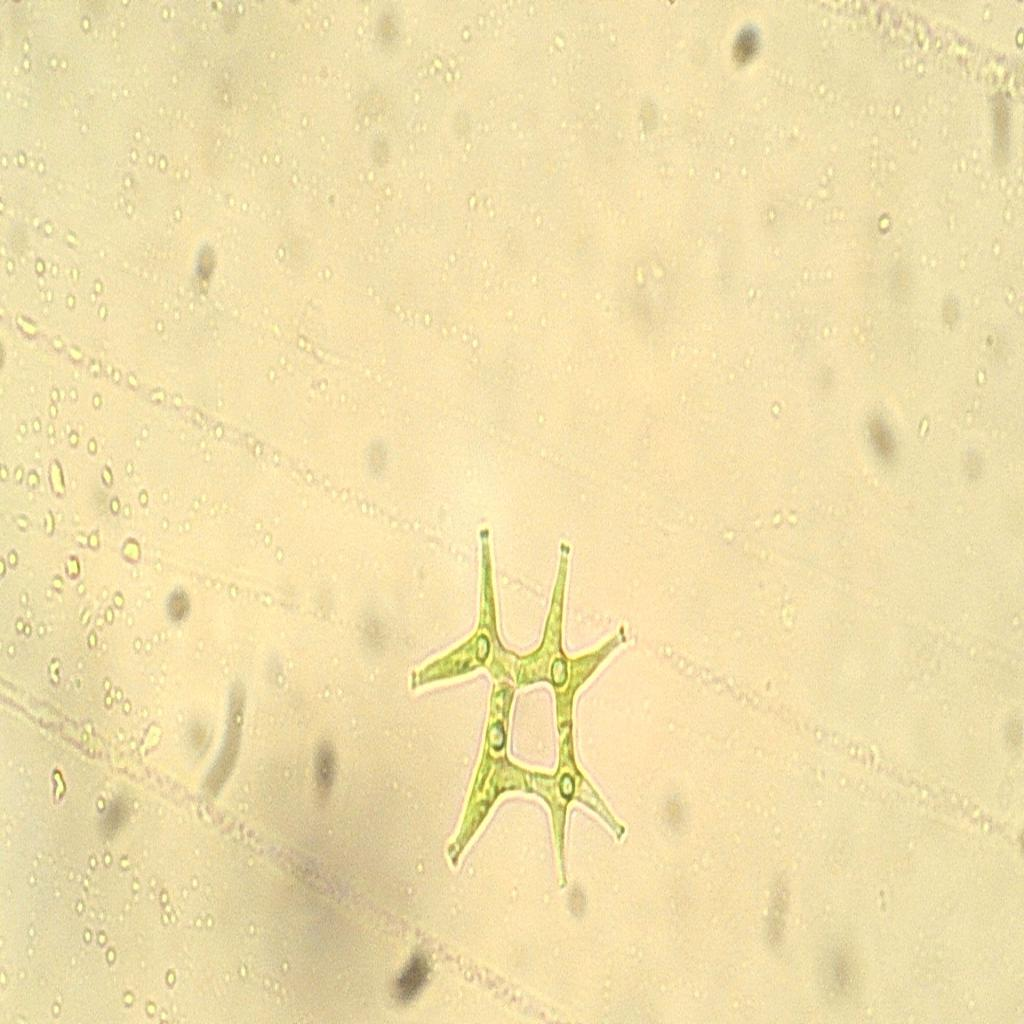Pediastrum_75FI: (399, 491, 640, 929)
